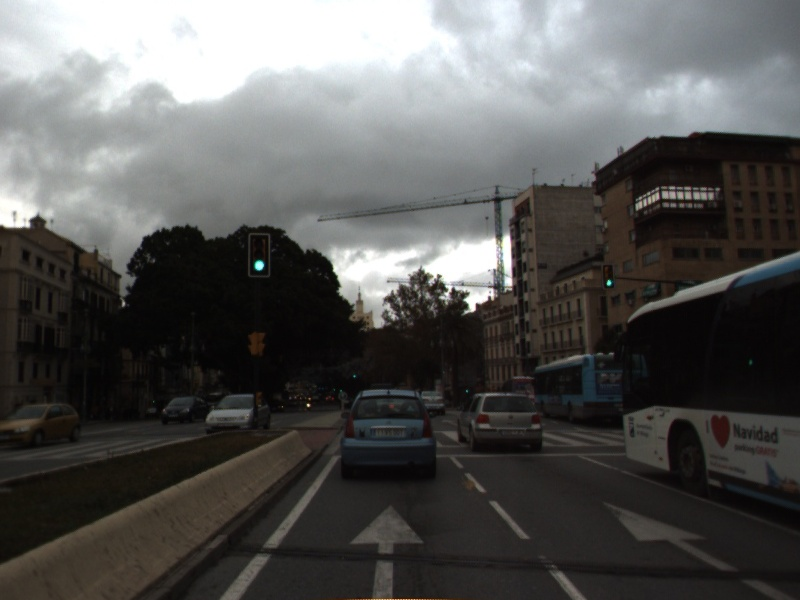STRAIGHT: (597, 497, 800, 600), (345, 501, 429, 600)
